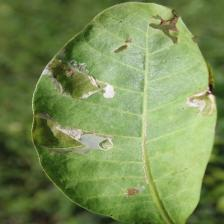leaf miner: (32, 109, 120, 158), (41, 56, 125, 103), (181, 83, 218, 124)
